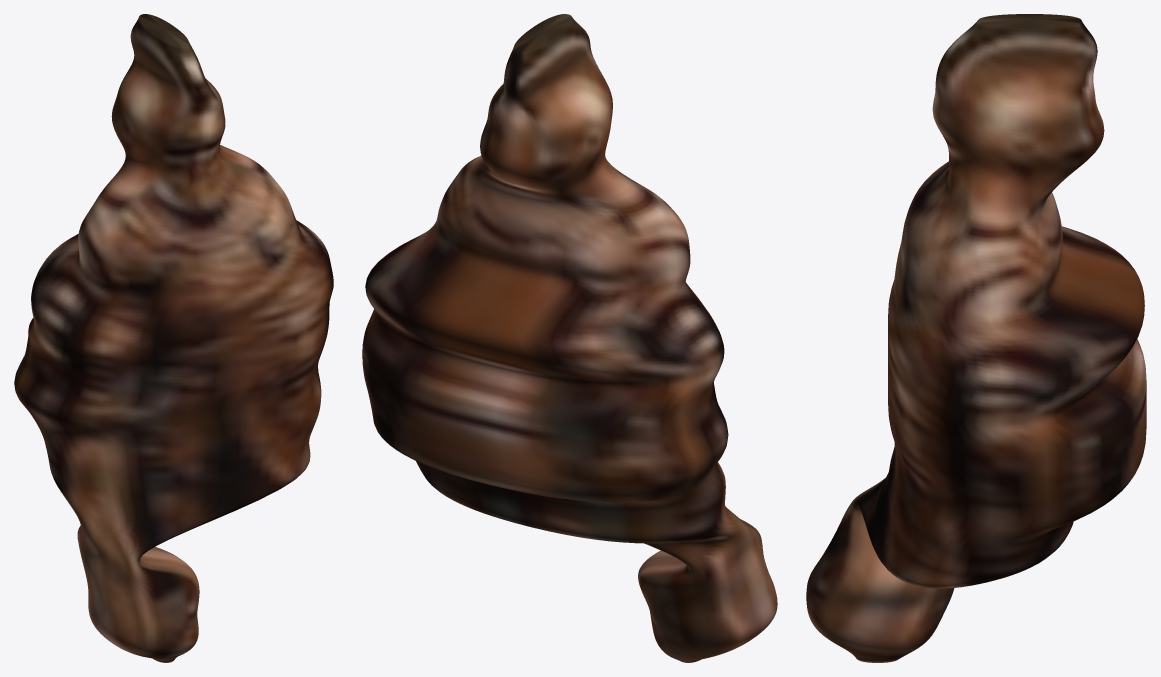
3 renders of one model, left to right at view 1: azimuth 30°, elevation 25°; view 2: azimuth 150°, elevation 25°; view 3: azimuth 270°, elevation 25°, orthographic. The views are drawn at different scales.
Visible parts, largest first — view 1: hull-W1; view 2: hull-W1; view 3: hull-W1.
Boxes of the visible parts, x1,y1,x2,y2 form: hull-W1: [14, 14, 333, 662]; hull-W1: [362, 14, 777, 662]; hull-W1: [806, 14, 1146, 662].
Size of the model in its own units: 1.39 by 2.6 by 1.18.
